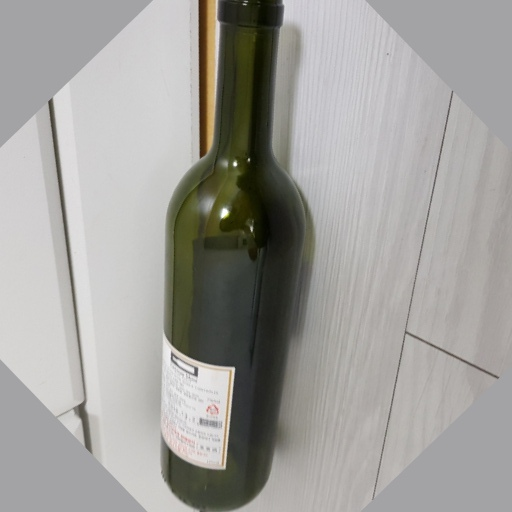Glass_2: (157, 1, 312, 512)
